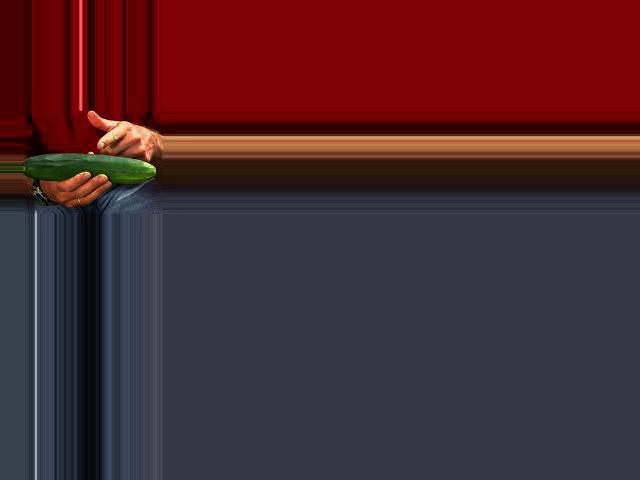cucumber: (22, 153, 156, 184)
